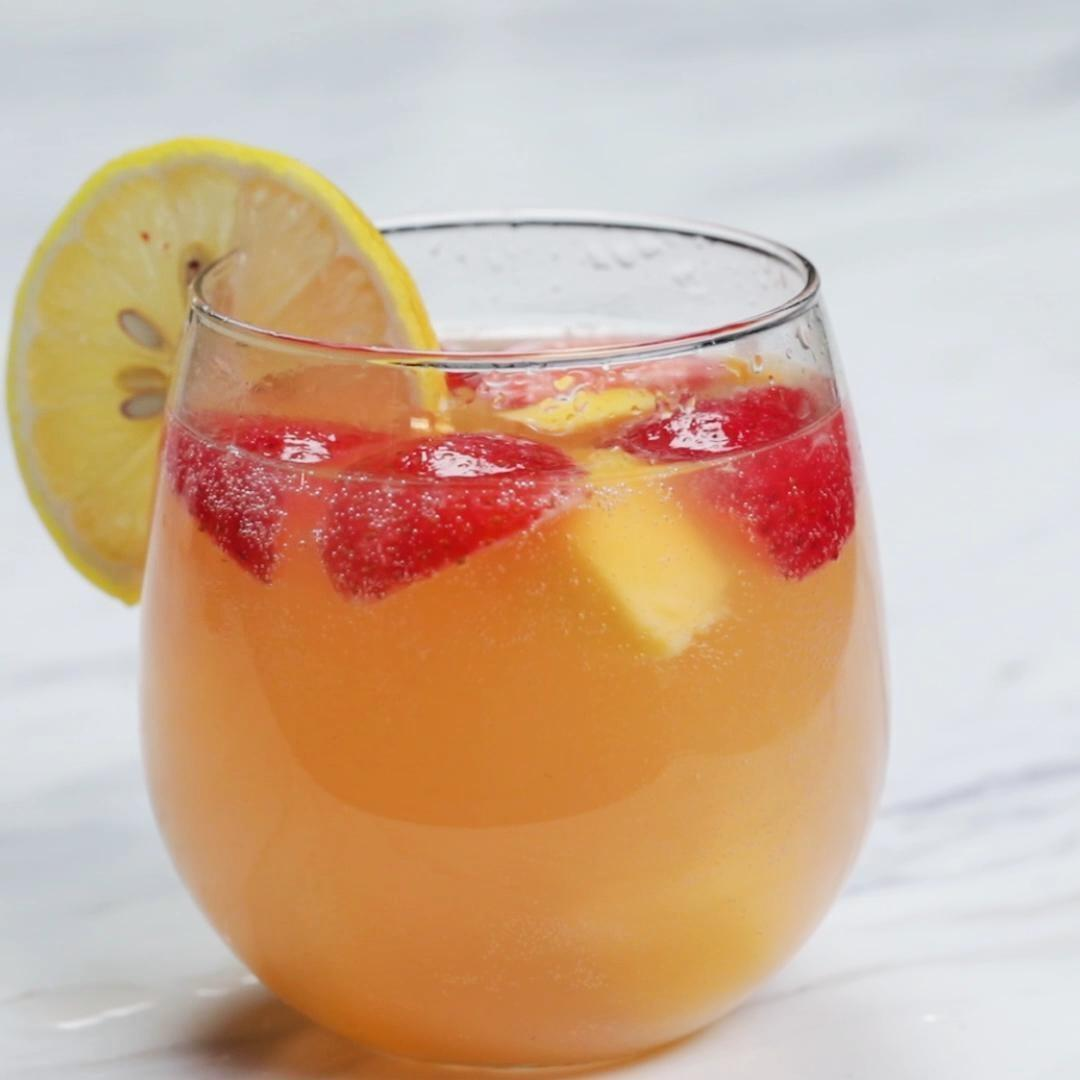glass-normal: (136, 209, 895, 1079)
